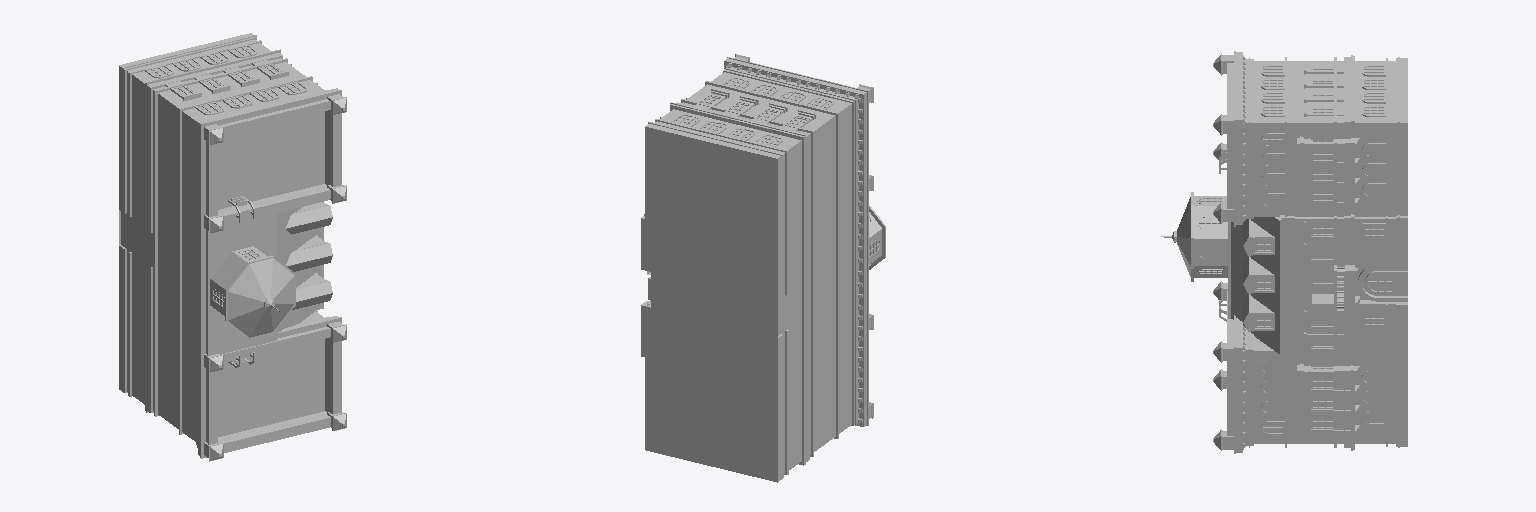
The model's file is school.obj.
3 renders of one model, left to right at view 1: azimuth 30°, elevation 25°; view 2: azimuth 150°, elevation 25°; view 3: azimuth 270°, elevation 25°, orthographic.
Bounding box in the file's own units: 365 × 750 × 520.